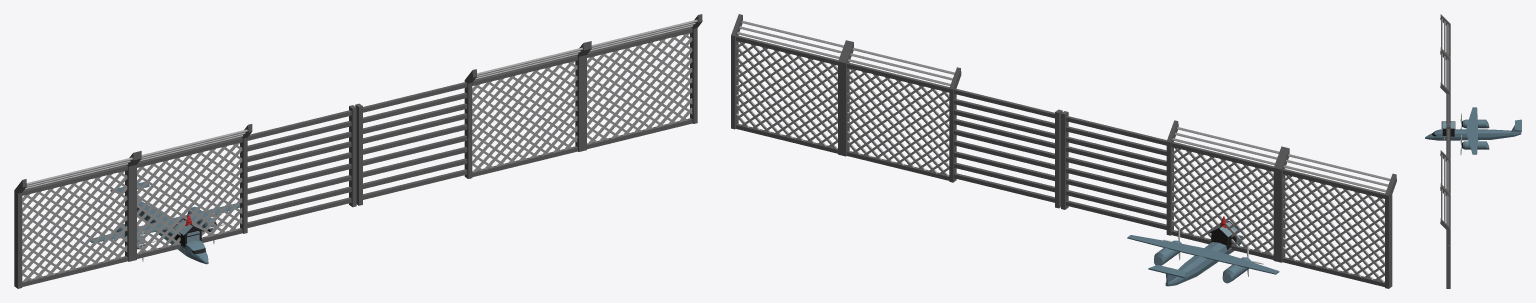
The model's file is RocketShip.fbx.
3 renders of one model, left to right at view 1: azimuth 30°, elevation 25°; view 2: azimuth 150°, elevation 25°; view 3: azimuth 270°, elevation 25°, orthographic. The views are drawn at different scales.
Parts seen in each view (by area): view 1: MetalFence.004, MetalFence.005, MetalFence.002, MetalFence, MetalFence.003, MetalFence.001, Body; view 2: MetalFence.004, MetalFence.005, MetalFence.002, MetalFence, MetalFence.001, MetalFence.003, Body, RightWing, LeftWing, Workshop; view 3: Body, MetalFence.002, MetalFence, MetalFence.005, MetalFence.004, LeftWing, RightWing, LeftPropeller, RightPropeller, Workshop, MetalFence.003, MetalFence.001.
Part boxes in pixels (box(x1,y1,x2,y2)): MetalFence.004: box(14, 152, 137, 288); MetalFence.005: box(464, 42, 587, 178); MetalFence.002: box(583, 14, 702, 150); MetalFence: box(133, 124, 252, 260); MetalFence.003: box(355, 82, 467, 205); MetalFence.001: box(247, 105, 356, 227); Body: box(110, 181, 208, 264); MetalFence.004: box(1277, 147, 1396, 288); MetalFence.005: box(842, 41, 961, 182); MetalFence.002: box(731, 14, 849, 155); MetalFence: box(1166, 120, 1285, 261); MetalFence.001: box(1061, 111, 1166, 229); MetalFence.003: box(954, 88, 1062, 208); Body: box(1148, 235, 1242, 286); RightWing: box(1201, 249, 1279, 274); LeftWing: box(1127, 235, 1209, 256); Workshop: box(1209, 221, 1238, 249); Body: box(1425, 119, 1521, 140); MetalFence.002: box(1440, 185, 1450, 288); MetalFence: box(1440, 49, 1450, 123); MetalFence.005: box(1440, 150, 1450, 193); MetalFence.004: box(1440, 14, 1450, 57); LeftWing: box(1466, 130, 1477, 154); RightWing: box(1466, 107, 1477, 130); LeftPropeller: box(1460, 134, 1489, 154); RightPropeller: box(1460, 113, 1489, 129); Workshop: box(1441, 121, 1455, 136); MetalFence.003: box(1446, 125, 1450, 159); MetalFence.001: box(1446, 94, 1450, 125).
Size of the model in its own units: 18316 by 3284 by 3653.
